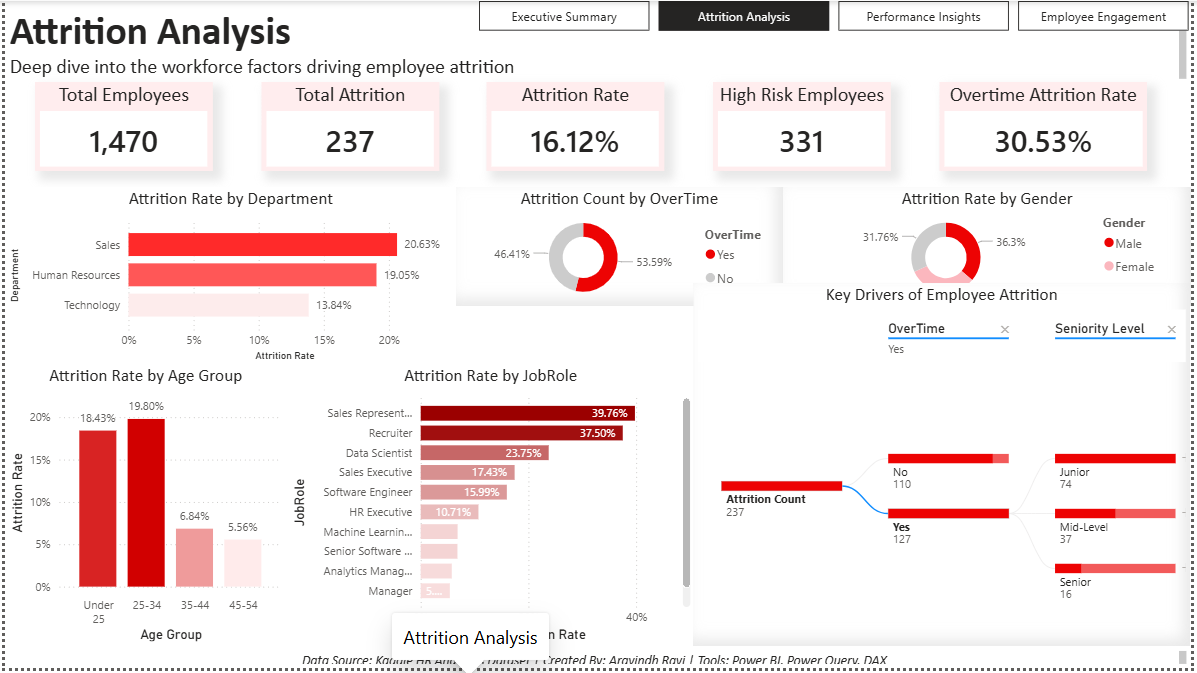

Layout of this report page (visuals, bound fields, positions):
{"tool":"powerbi","page":{"name":"Attrition Analysis","canvas":[1280,720],"ordinal":1},"visuals":[{"type":"textbox","box":[0,0,1280,97.3],"z":0},{"type":"cardVisual","title":"Total Employees","fields":{"Data":["Measure.Total Employees Display"]},"box":[32,88,192,96],"z":0,"group":"g1"},{"type":"group","id":"g1","title":"Group 1","box":[32,88,1200,96],"z":1000},{"type":"cardVisual","title":"High Risk Employees","fields":{"Data":["Measure.High Risk Employees Display"]},"box":[764,88,192,96],"z":1000,"group":"g1"},{"type":"cardVisual","title":"Overtime Attrition Rate","fields":{"Data":["Measure.Overtime Attrition Rate"]},"box":[1008,88,224,96],"z":2000,"group":"g1"},{"type":"clusteredBarChart","fields":{"Category":["DimEmployee.Department"],"Y":["Measure.Attrition Rate"]},"box":[0,200,488,192],"z":2000},{"type":"cardVisual","title":"Total Attrition","fields":{"Data":["Measure.Attrition Count"]},"box":[276,88,192,96],"z":3000,"group":"g1"},{"type":"clusteredColumnChart","fields":{"Y":["Measure.Attrition Rate"],"Category":["DimEmployee.Age Group"]},"box":[0,392,304,304],"z":3000},{"type":"cardVisual","title":"Attrition Rate","fields":{"Data":["Measure.Attrition Rate"]},"box":[520,88,192,96],"z":4000,"group":"g1"},{"type":"donutChart","fields":{"Category":["DimEmployee.OverTime"],"Y":["Measure.Attrition Count"]},"box":[488,200,352,128],"z":4000},{"type":"donutChart","fields":{"Y":["Measure.Attrition Rate"],"Category":["DimEmployee.Gender"]},"box":[840,200,440,128],"z":5000},{"type":"clusteredBarChart","fields":{"Y":["Measure.Attrition Rate"],"Category":["DimEmployee.JobRole"]},"box":[304,392,440,304],"z":6000},{"type":"decompositionTreeVisual","title":"Key Drivers of Employee Attrition","fields":{"Analyze":["Measure.Attrition Count"],"ExplainBy":["DimEmployee.OverTime","DimEmployee.Seniority Level","DimEmployee.EducationField","DimEmployee.Department","DimEmployee.Age Group","DimEmployee.Gender"]},"box":[744,304,536,392],"z":7000},{"type":"textbox","box":[0,696,1280,24],"z":8000},{"type":"pageNavigator","box":[512,0,768,32],"z":9000}]}

Visuals, with their boxes in screenshot pixels (x1, y1, x2, y2), scaled from the page's 1280x720 canvas onto the 1197x673 screenshot:
textbox: BBox(0, 0, 1196, 91)
"Total Employees" cardVisual: BBox(30, 82, 209, 172)
"Group 1" group: BBox(30, 82, 1152, 172)
"High Risk Employees" cardVisual: BBox(714, 82, 894, 172)
"Overtime Attrition Rate" cardVisual: BBox(943, 82, 1152, 172)
clusteredBarChart - DimEmployee.Department x Measure.Attrition Rate: BBox(0, 187, 456, 366)
"Total Attrition" cardVisual: BBox(258, 82, 438, 172)
clusteredColumnChart - Measure.Attrition Rate x DimEmployee.Age Group: BBox(0, 366, 284, 651)
"Attrition Rate" cardVisual: BBox(486, 82, 666, 172)
donutChart - DimEmployee.OverTime x Measure.Attrition Count: BBox(456, 187, 786, 307)
donutChart - Measure.Attrition Rate x DimEmployee.Gender: BBox(786, 187, 1196, 307)
clusteredBarChart - Measure.Attrition Rate x DimEmployee.JobRole: BBox(284, 366, 696, 651)
"Key Drivers of Employee Attrition" decompositionTreeVisual: BBox(696, 284, 1196, 651)
textbox: BBox(0, 651, 1196, 672)
pageNavigator: BBox(479, 0, 1196, 30)
